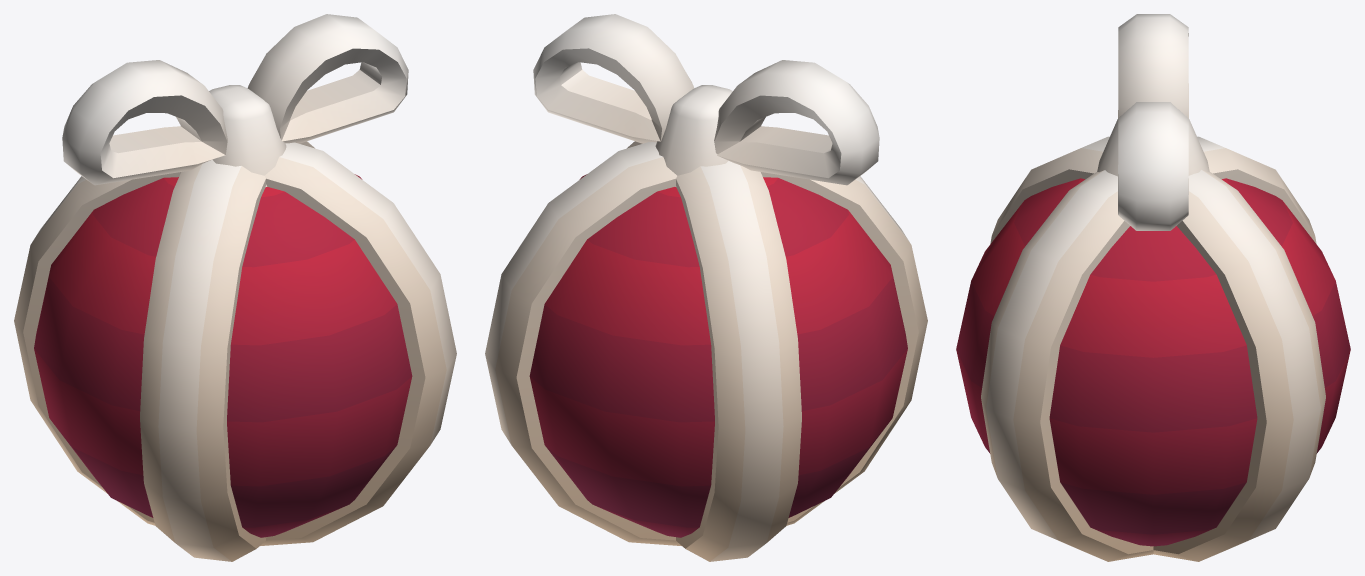
The model's file is present_sphere_A_red.fbx.
3 renders of one model, left to right at view 1: azimuth 30°, elevation 25°; view 2: azimuth 150°, elevation 25°; view 3: azimuth 270°, elevation 25°, orthographic. The views are drawn at different scales.
Visible parts, largest first — view 1: present_sphere_A_red; view 2: present_sphere_A_red; view 3: present_sphere_A_red.
Part boxes in pixels (x1,y1,x2,y2): present_sphere_A_red: [14, 14, 456, 561]; present_sphere_A_red: [485, 14, 927, 561]; present_sphere_A_red: [956, 14, 1350, 561].
Size of the model in its own units: 55.76 by 75.01 by 55.76.
